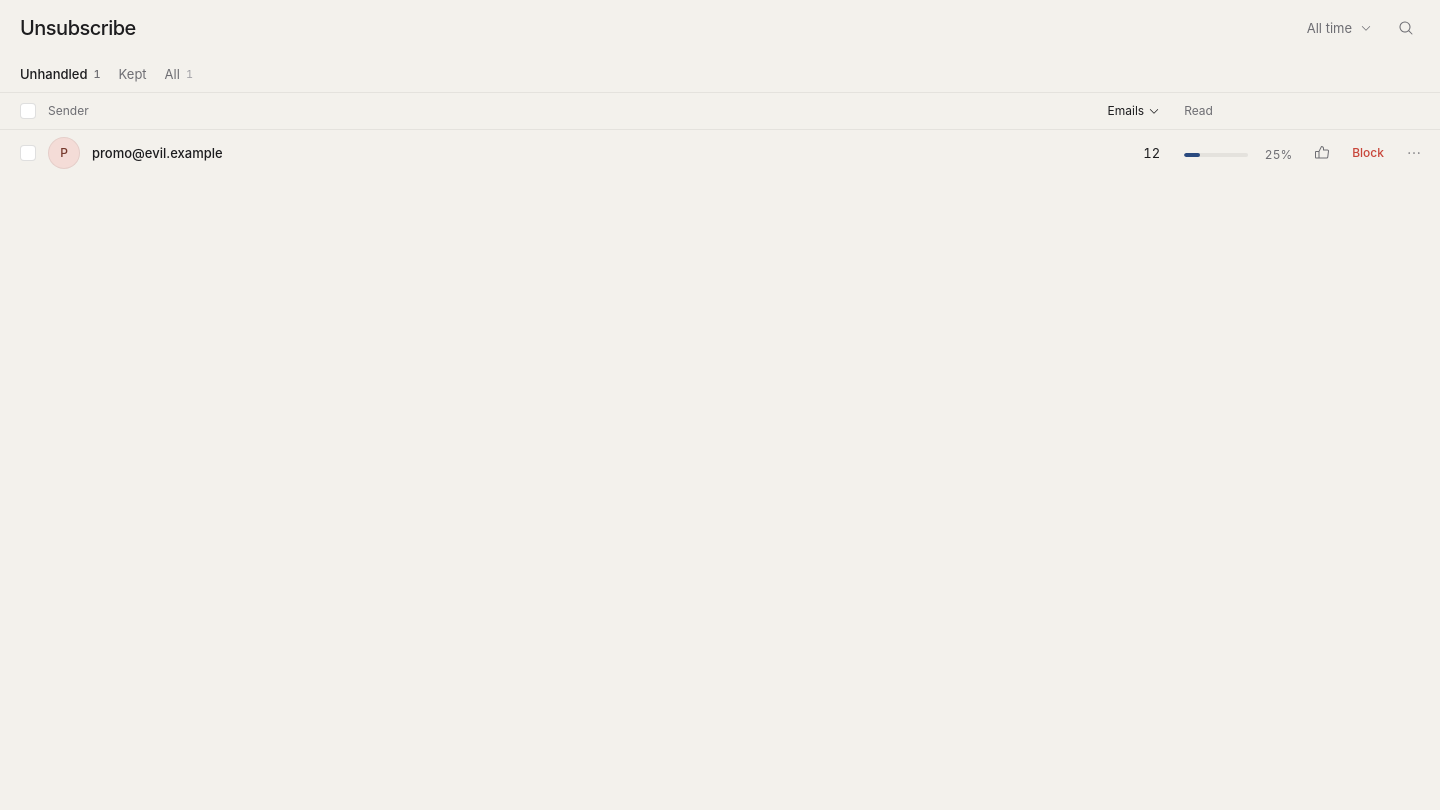
Test: BulkUnsubscribePage › says so when the selected senders have no safe unsubscribe link
Click the checkbox named "Select all" at (28, 111), box [20,103,36,119]
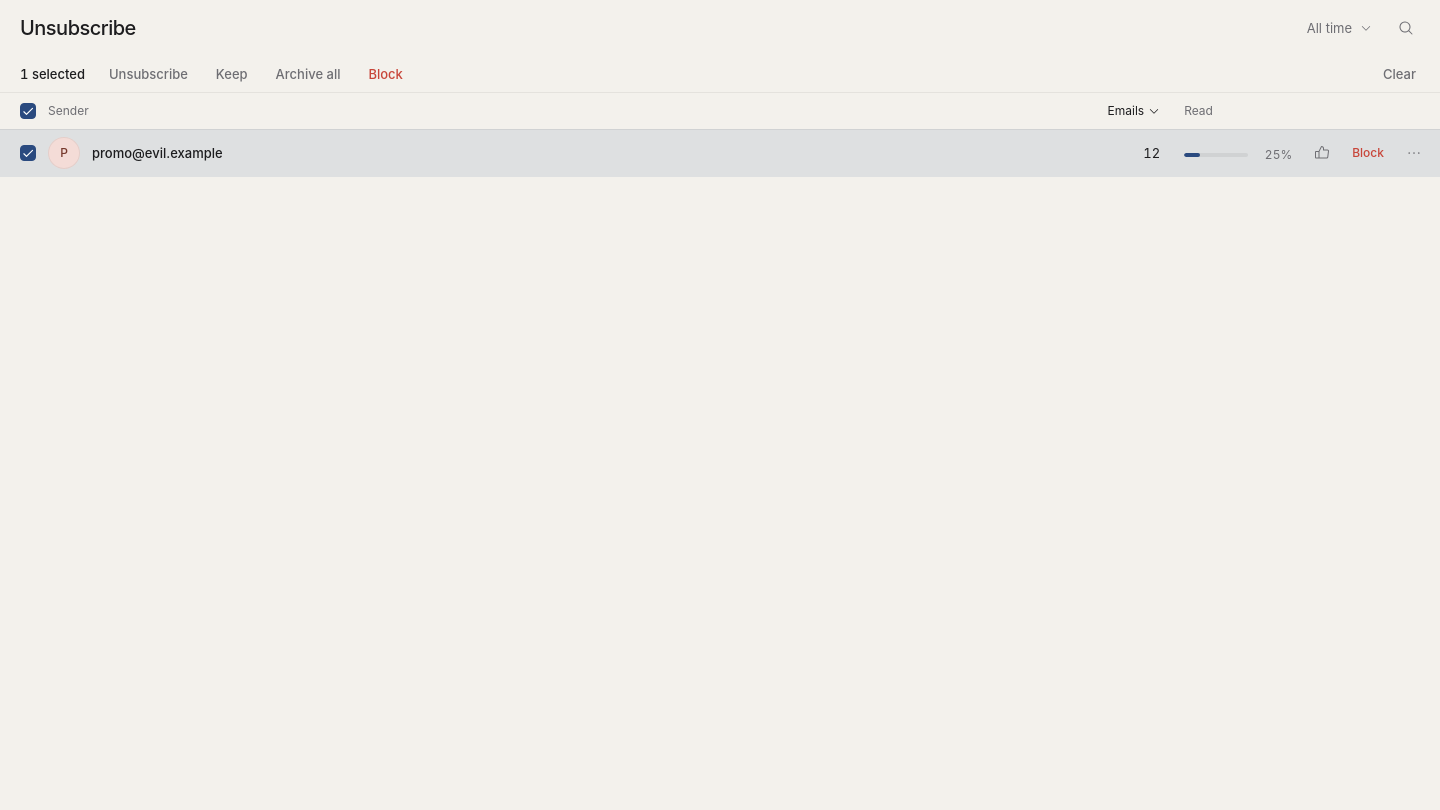
Click the button "Unsubscribe" at (148, 74), box [97,58,200,90]
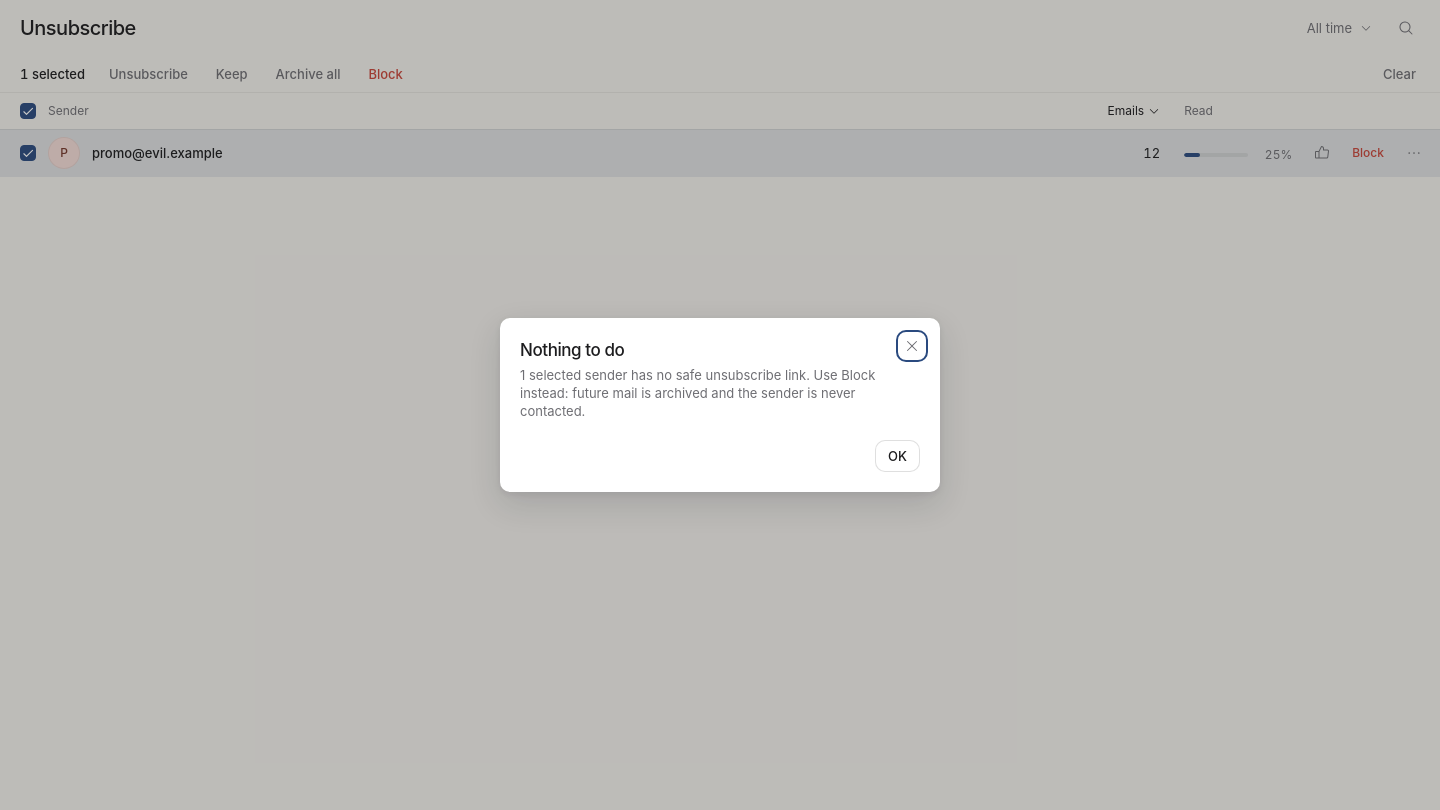
Expected: the dialog "Nothing to do" shows "1 selected sender has no safe unsubscribe link. Use Block instead", [520,367,875,419]
Expected: the button "OK" is shown, [875,440,920,472]
